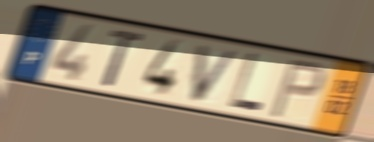4: (49, 22, 96, 83), (141, 37, 181, 99)
L: (227, 50, 265, 115)
P: (266, 58, 328, 121)
T: (100, 27, 147, 90)
V: (189, 43, 243, 106)
